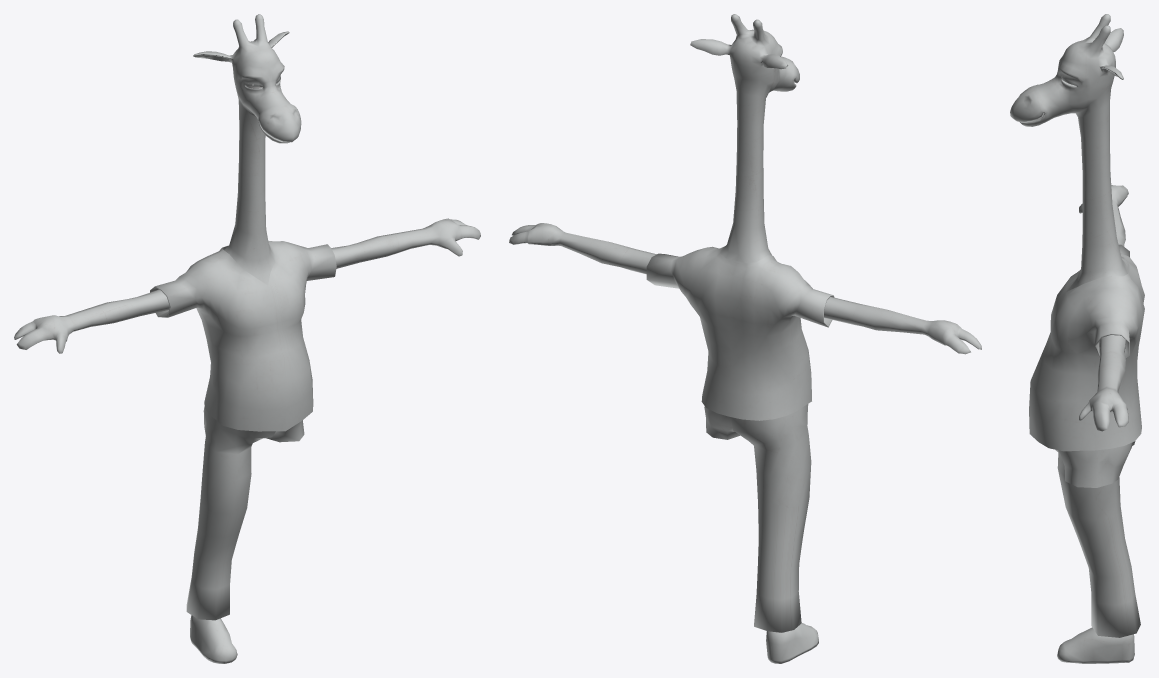
The model's file is Giraffe_01.glb.
3 views of the same model, side by side, from view 1: azimuth 30°, elevation 25°; view 2: azimuth 150°, elevation 25°; view 3: azimuth 270°, elevation 25° (orthographic). The views are drawn at different scales.
Visible parts, largest first — view 1: GIraffe_Shirt, Giraffe_Base, GIraffe_Shorts, Giraffe_Shoes; view 2: GIraffe_Shirt, Giraffe_Base, GIraffe_Shorts, Giraffe_Shoes; view 3: Giraffe_Base, GIraffe_Shirt, GIraffe_Shorts, Giraffe_Shoes.
Part boxes in pixels (box(x1,y1,x2,y2)): GIraffe_Shirt: box(150, 241, 336, 431); Giraffe_Base: box(14, 14, 480, 442); GIraffe_Shorts: box(186, 407, 275, 620); Giraffe_Shoes: box(190, 615, 237, 663); GIraffe_Shirt: box(646, 246, 834, 420); Giraffe_Base: box(509, 14, 981, 659); GIraffe_Shorts: box(731, 404, 811, 632); Giraffe_Shoes: box(766, 623, 818, 663); Giraffe_Base: box(1010, 14, 1134, 659); GIraffe_Shirt: box(1029, 244, 1144, 451); GIraffe_Shorts: box(1057, 441, 1140, 637); Giraffe_Shoes: box(1057, 627, 1134, 663).
Bounding box in the file's own units: 1.79 × 2.29 × 0.4254.
2 materials, 2 textured.
